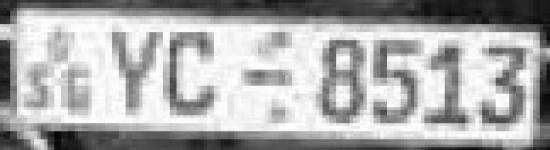-: (238, 65, 294, 90)
1: (422, 33, 475, 130)
3: (475, 40, 535, 130)
5: (368, 31, 422, 130)
8: (313, 34, 372, 127)
C: (166, 27, 222, 123)
G: (59, 61, 96, 114)
S: (21, 59, 57, 111)
Y: (105, 28, 166, 119)
